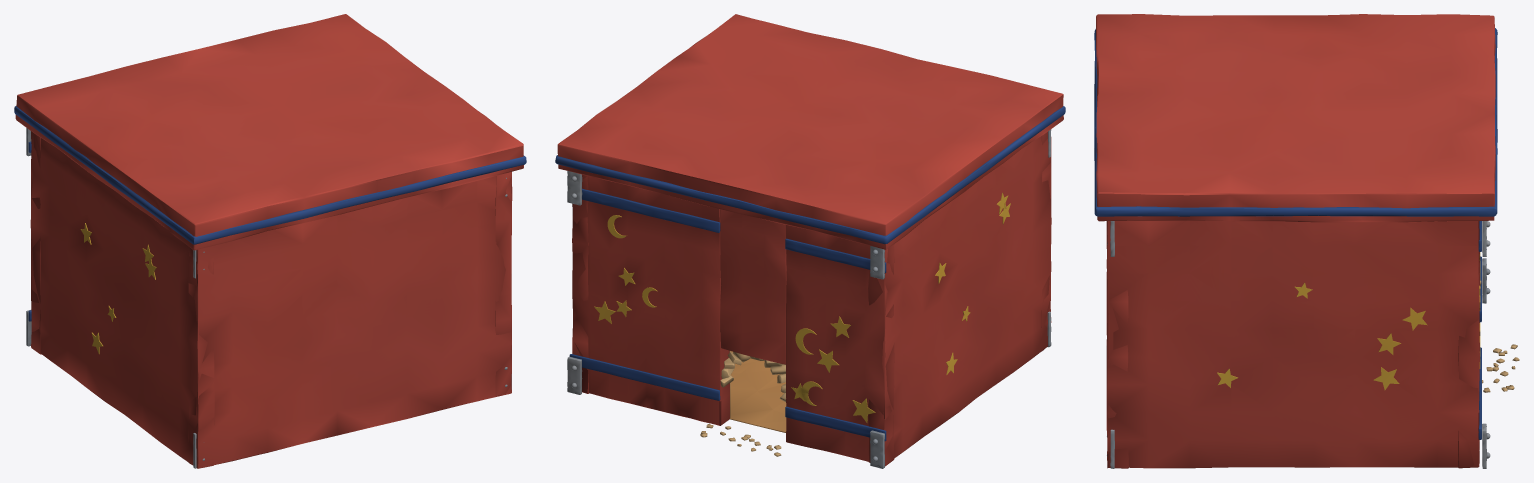
The model's file is den_toybox.glb.
3 views of the same model, side by side, from view 1: azimuth 30°, elevation 25°; view 2: azimuth 150°, elevation 25°; view 3: azimuth 270°, elevation 25° (orthographic). The views are drawn at different scales.
Visible parts, largest first — view 1: den_toybox; view 2: den_toybox; view 3: den_toybox.
Boxes of the visible parts, x1,y1,x2,y2 form: den_toybox: [14, 14, 526, 468]; den_toybox: [555, 14, 1065, 468]; den_toybox: [1094, 14, 1519, 468].
Size of the model in its own units: 40.46 by 29.39 by 40.03.
